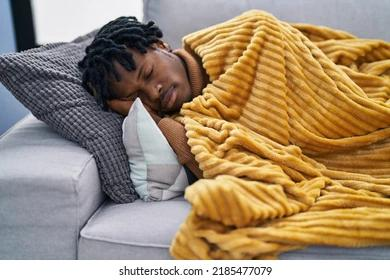blanket: (167, 9, 390, 260)
